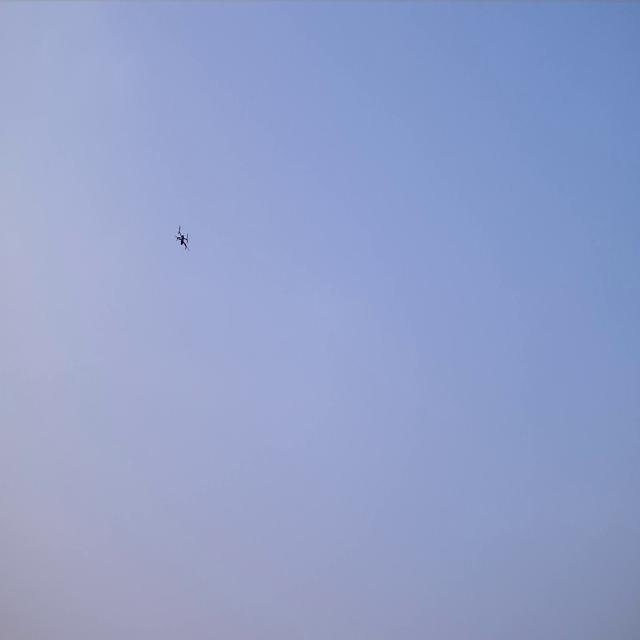UAV: (173, 221, 191, 253)
